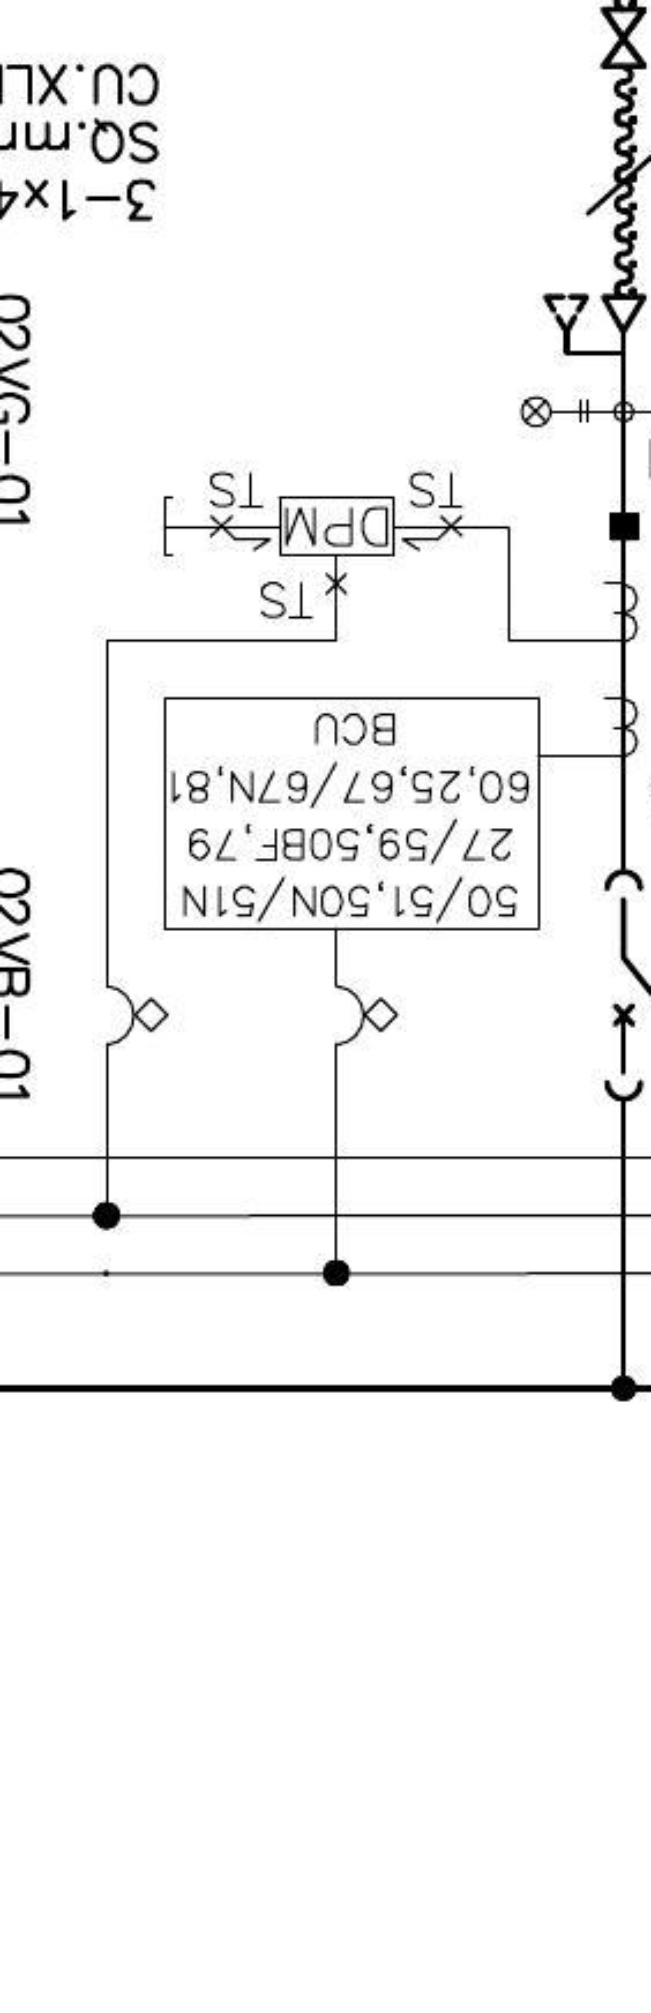22_ll: (519, 394, 591, 430)
DPM: (276, 493, 398, 558)
terminator_splicing_kits: (600, 6, 648, 71)
terminator_w_future: (541, 291, 650, 359)
